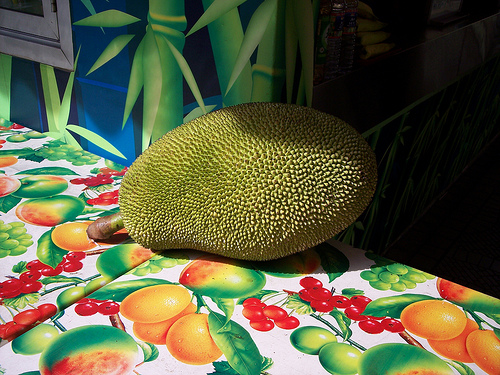jackfruit: (119, 101, 377, 261)
